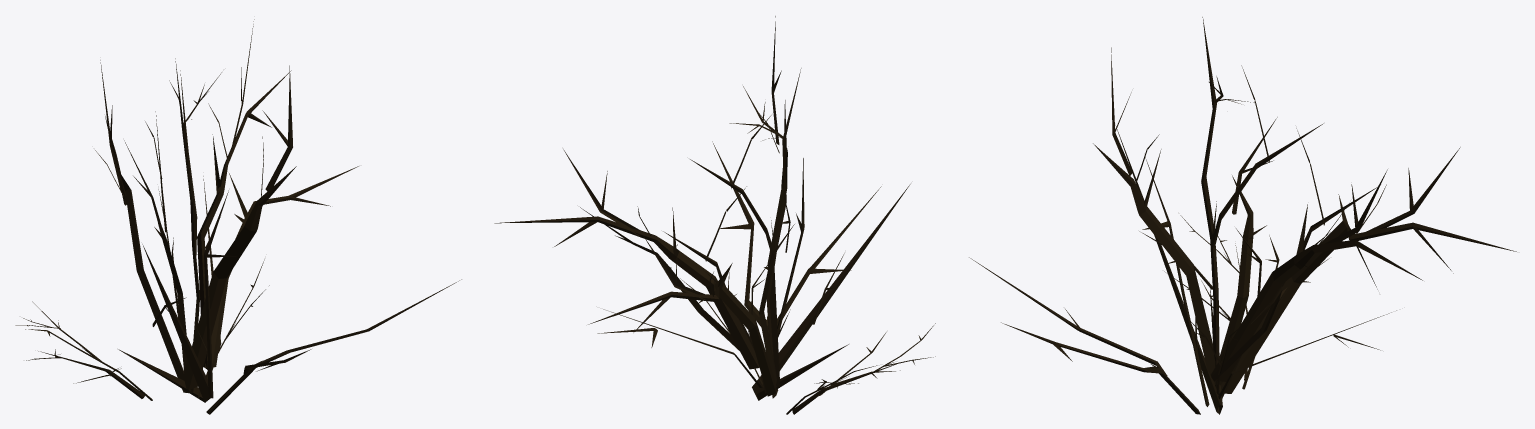
Rendered from stickbush_no_snow.fbx.
3 renders of one model, left to right at view 1: azimuth 30°, elevation 25°; view 2: azimuth 150°, elevation 25°; view 3: azimuth 270°, elevation 25°, orthographic. The views are drawn at different scales.
Parts seen in each view (by area): view 1: stick bush; view 2: stick bush; view 3: stick bush.
Part boxes in pixels (box(x1,y1,x2,y2)): stick bush: box(15, 19, 461, 414); stick bush: box(494, 16, 935, 414); stick bush: box(969, 17, 1516, 414).
Bounding box in the file's own units: 267 × 254 × 328.
